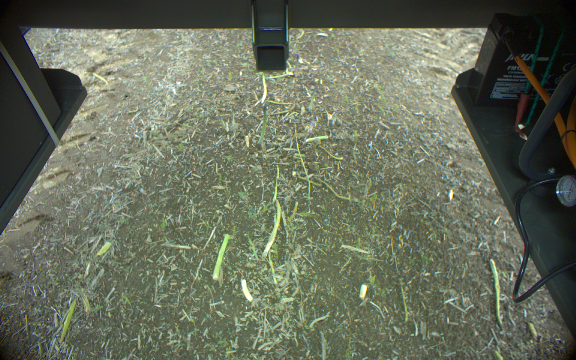aspa: (260, 199, 281, 255), (488, 257, 502, 326), (210, 233, 230, 278), (241, 230, 260, 267), (61, 299, 76, 341), (397, 276, 409, 327), (258, 104, 269, 146), (237, 278, 254, 303), (256, 73, 269, 103), (271, 164, 280, 199), (302, 133, 331, 143), (264, 72, 295, 81)
